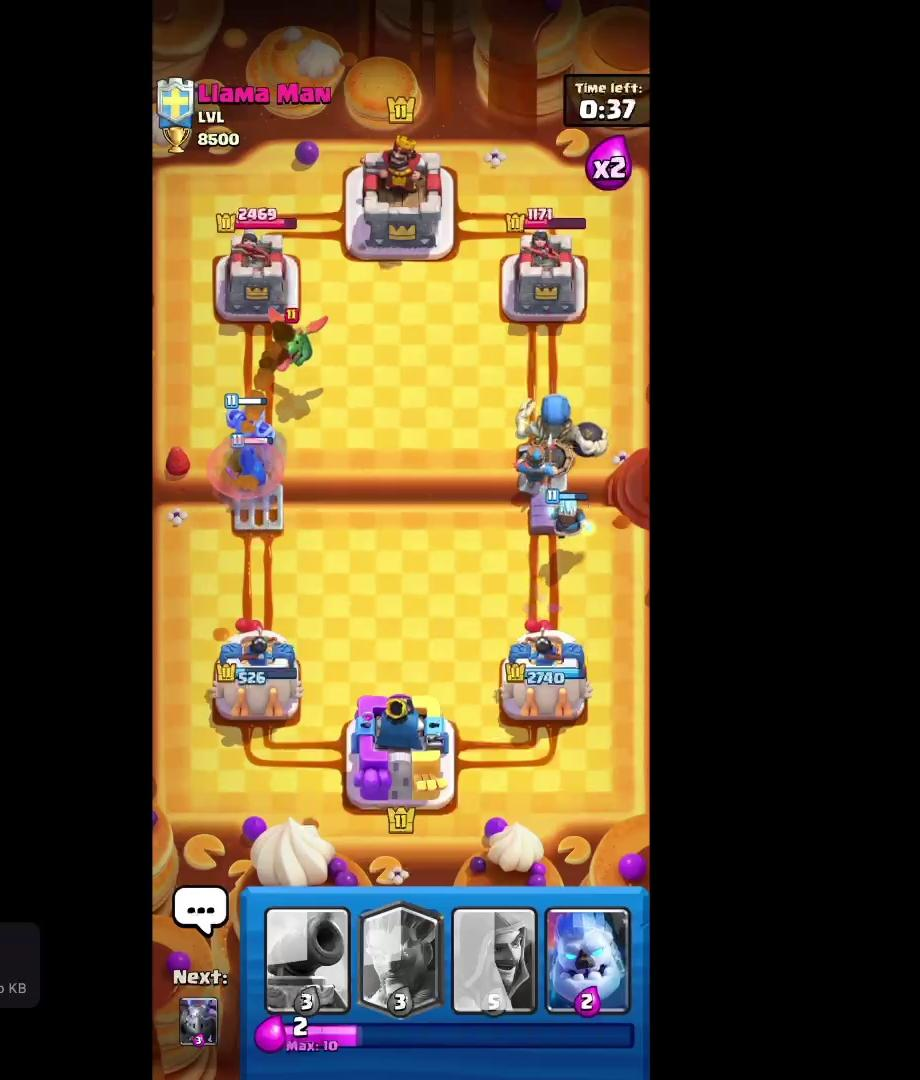Baby Dragon: (268, 301, 345, 389)
